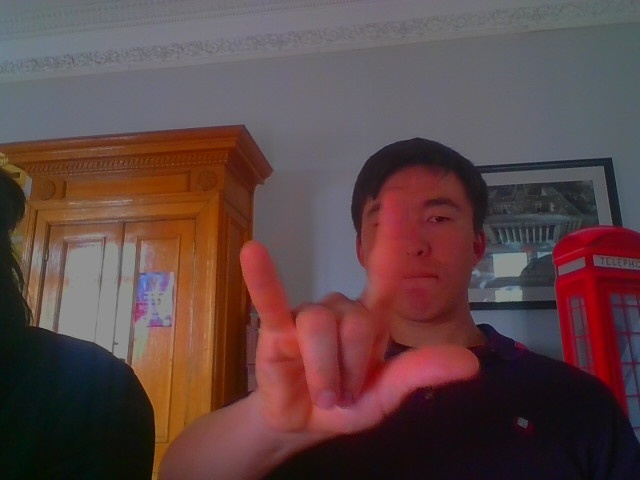Ilovu: (210, 181, 494, 436)
